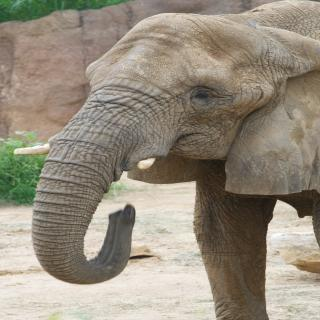Elephant: (5, 0, 320, 320)
